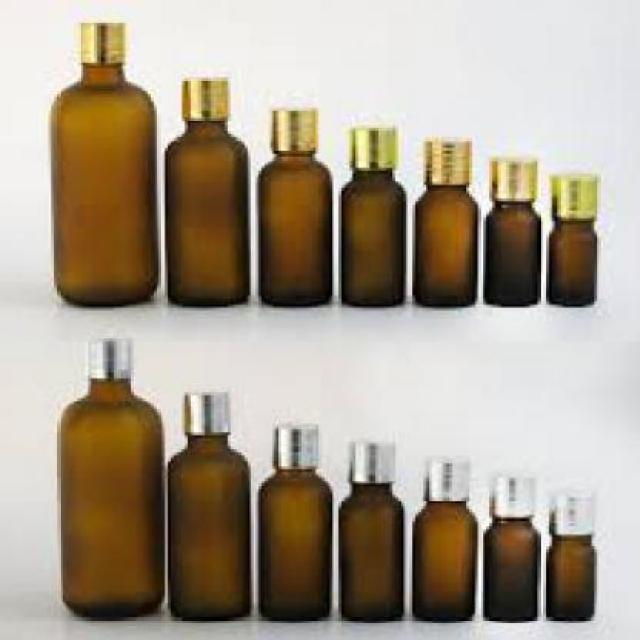kaca: (46, 63, 157, 302), (57, 378, 161, 614), (162, 117, 248, 308), (162, 435, 250, 617), (254, 469, 334, 620), (257, 153, 331, 304), (336, 483, 404, 620), (338, 168, 404, 308), (410, 184, 476, 304), (412, 498, 476, 617), (478, 198, 538, 304), (483, 515, 535, 617), (543, 217, 595, 308), (543, 532, 592, 617)
